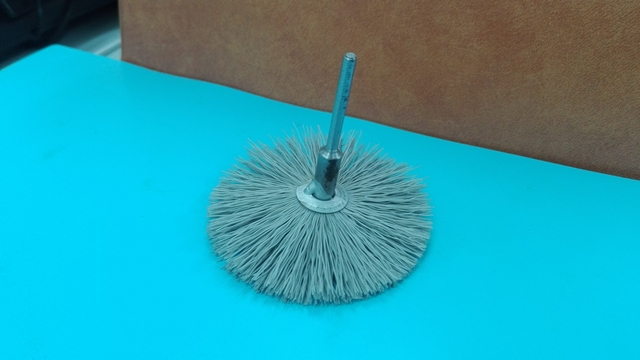TOOL: (191, 28, 493, 323), (193, 94, 440, 304), (212, 144, 458, 300)
